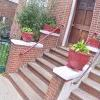stairs: (9, 37, 71, 100), (72, 56, 100, 100)
